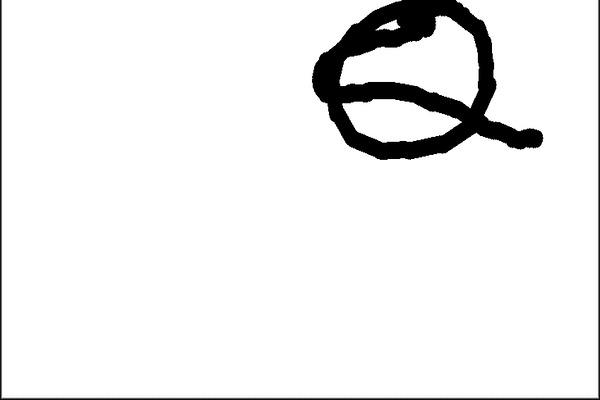Q: (299, 0, 541, 169)
